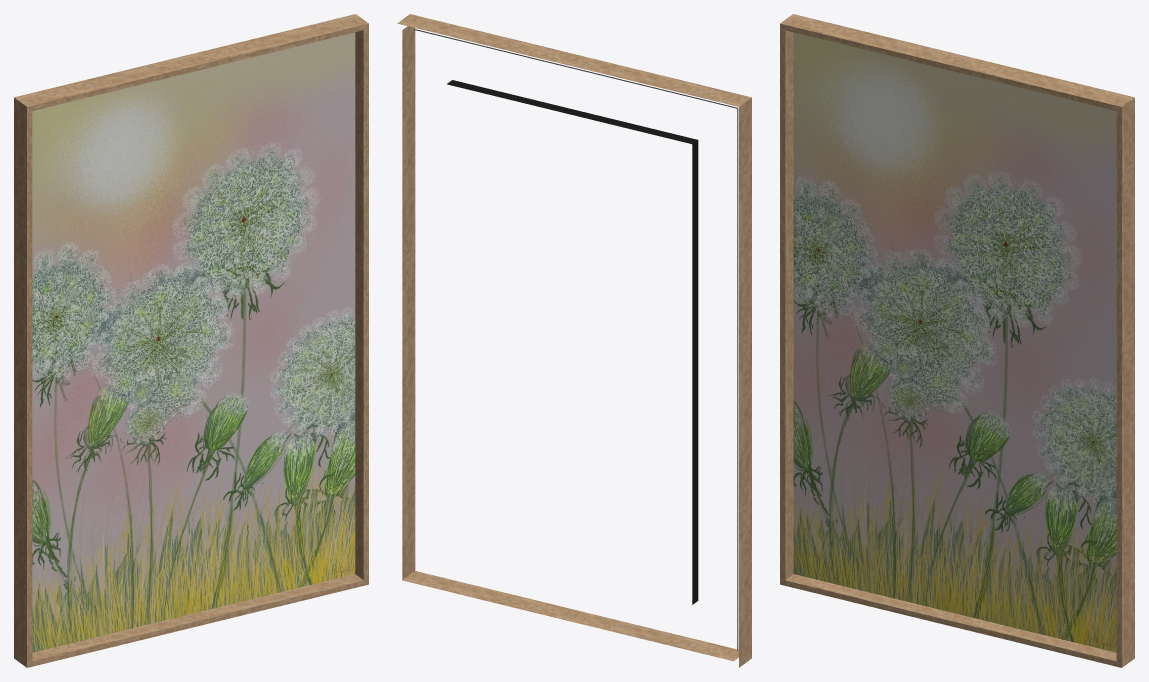
Rendered from os010_moyen_caisse-chene.glb.
3 renders of one model, left to right at view 1: azimuth 30°, elevation 25°; view 2: azimuth 150°, elevation 25°; view 3: azimuth 330°, elevation 25°, orthographic.
Parts seen in each view (by area): view 1: os010_moyen_caisse-chene; view 2: os010_moyen_caisse-chene; view 3: os010_moyen_caisse-chene.
Boxes of the visible parts, left/top/right/bottom form: os010_moyen_caisse-chene: left=14, top=14, right=368, bottom=667; os010_moyen_caisse-chene: left=397, top=14, right=751, bottom=667; os010_moyen_caisse-chene: left=780, top=14, right=1134, bottom=667.
Size of the model in its own units: 0.528 by 0.828 by 0.035.
Materials: 4 (2 with a texture image).
